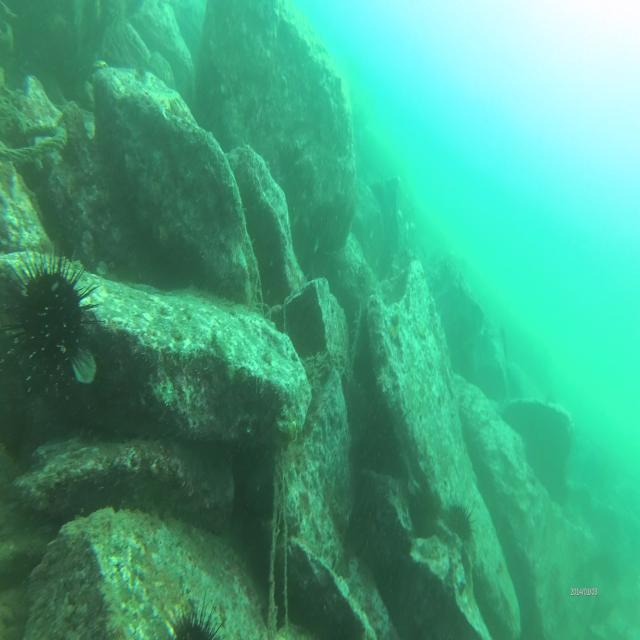echinus: (7, 258, 90, 393), (171, 607, 226, 640), (450, 499, 475, 543)
